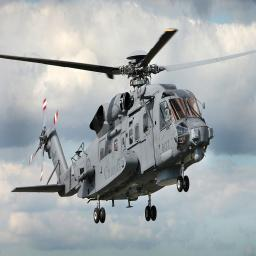helicopter: (2, 19, 217, 227)
